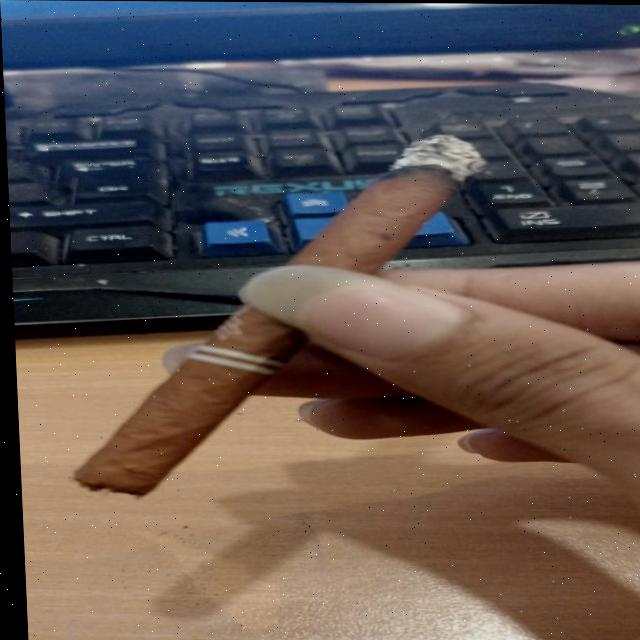cigarette: (70, 134, 488, 493)
